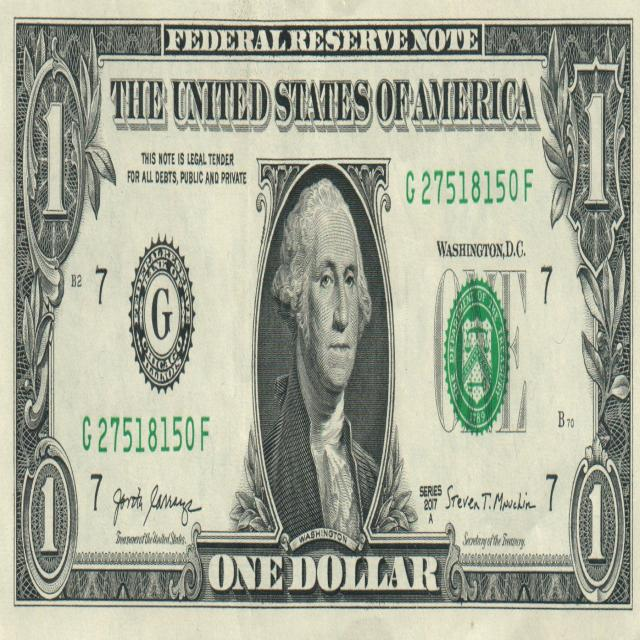SerialNumber: (83, 416, 209, 452), (406, 169, 532, 204)
